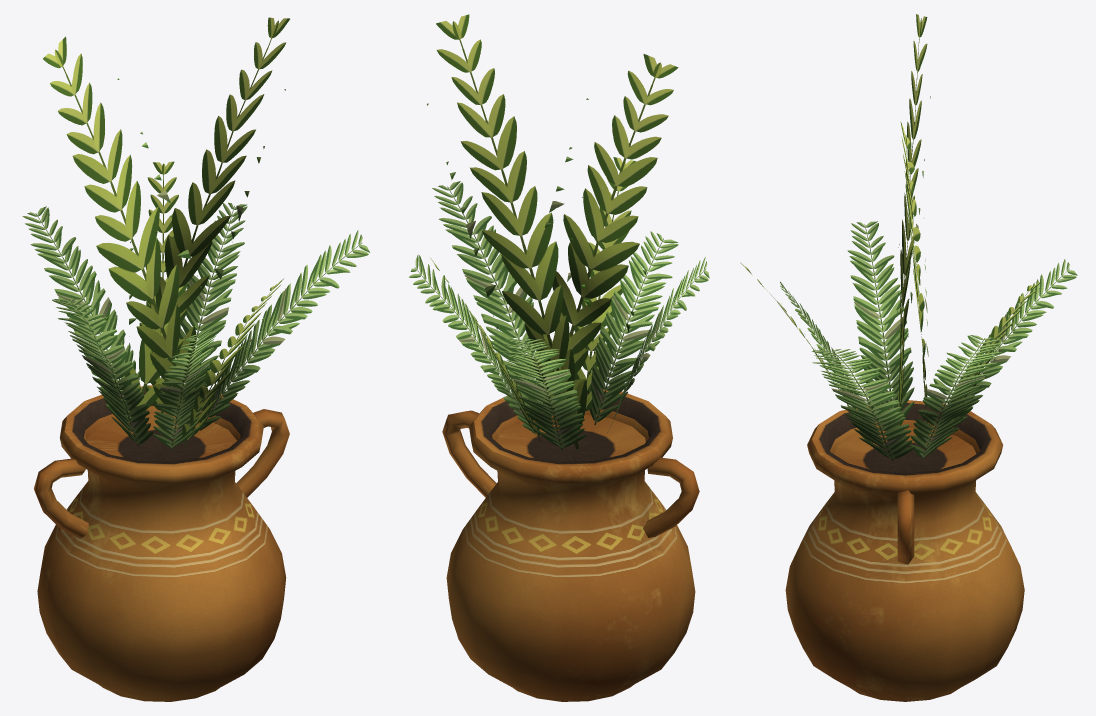
File: mm7_deco_plant01a.glb
3 renders of one model, left to right at view 1: azimuth 30°, elevation 25°; view 2: azimuth 150°, elevation 25°; view 3: azimuth 270°, elevation 25°, orthographic. The views are drawn at different scales.
Parts seen in each view (by area): view 1: Plant; view 2: Plant; view 3: Plant.
Boxes of the visible parts, x1,y1,x2,y2 form: Plant: (22, 17, 369, 701); Plant: (409, 14, 709, 701); Plant: (740, 14, 1077, 701).
Bounding box in the file's own units: 1.45 × 3.05 × 1.5.
2 materials, 2 textured.
